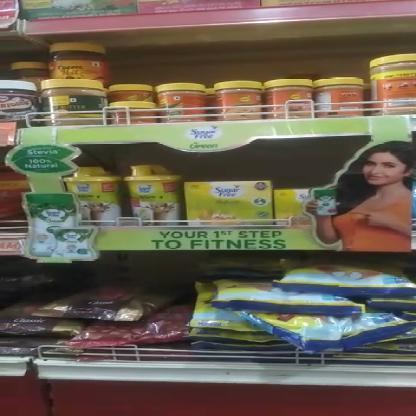SUGAR FREE NATURA SACHET 50: (187, 181, 271, 221), (274, 190, 312, 221)
